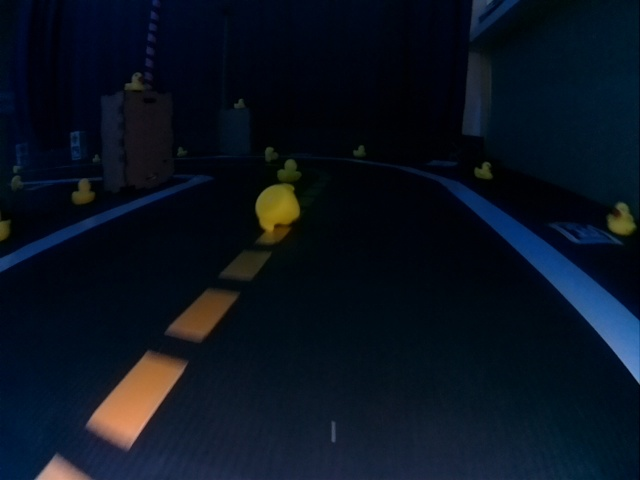Duckie: (256, 183, 300, 230), (608, 204, 635, 236), (73, 179, 94, 203), (278, 161, 301, 182), (125, 73, 145, 90), (475, 162, 493, 178), (266, 147, 278, 159), (354, 145, 366, 156), (177, 147, 186, 156), (236, 99, 243, 107)
QR code: (550, 222, 619, 244)
